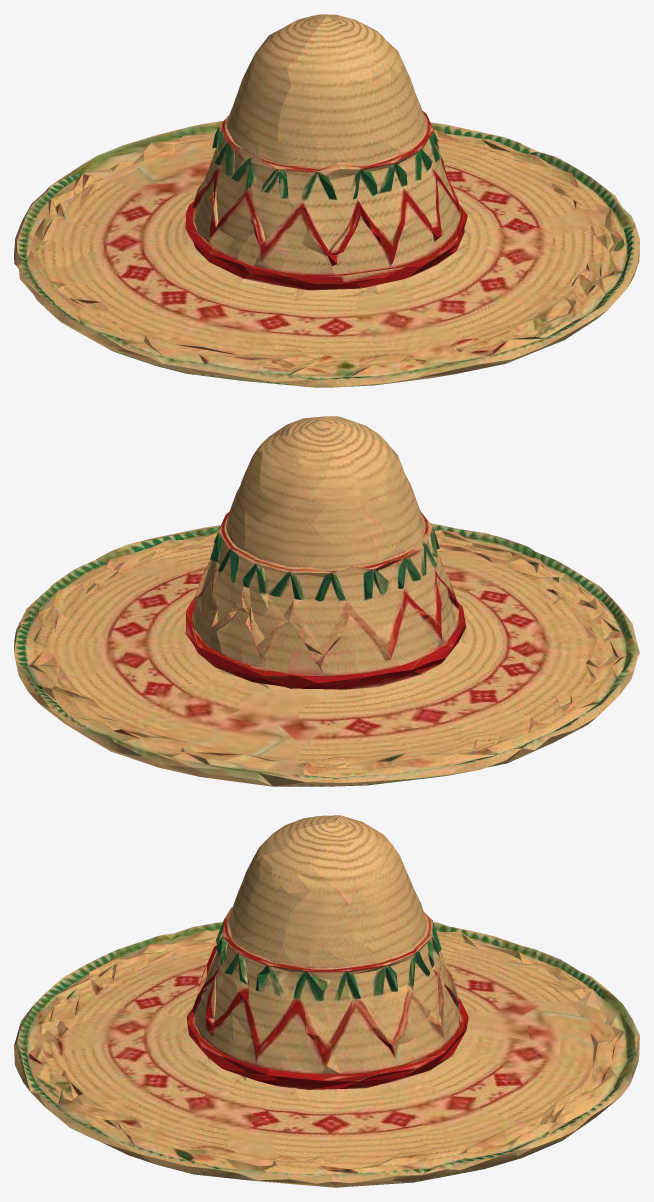
File: sombrero.glb
3 renders of one model, top to bottom at view 1: azimuth 30°, elevation 25°; view 2: azimuth 150°, elevation 25°; view 3: azimuth 270°, elevation 25°, orthographic.
Bounding box in the file's own units: 1.9 × 0.8017 × 1.9.
1 material, 1 textured.
